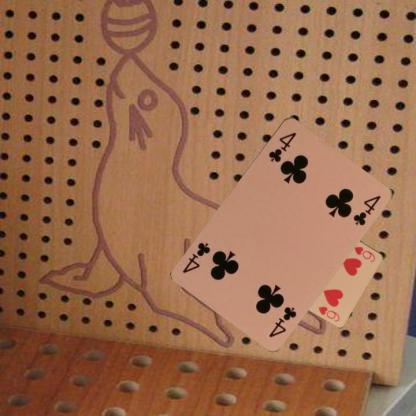4c: (266, 129, 298, 163), (266, 304, 298, 338)
6h: (351, 244, 377, 263)
